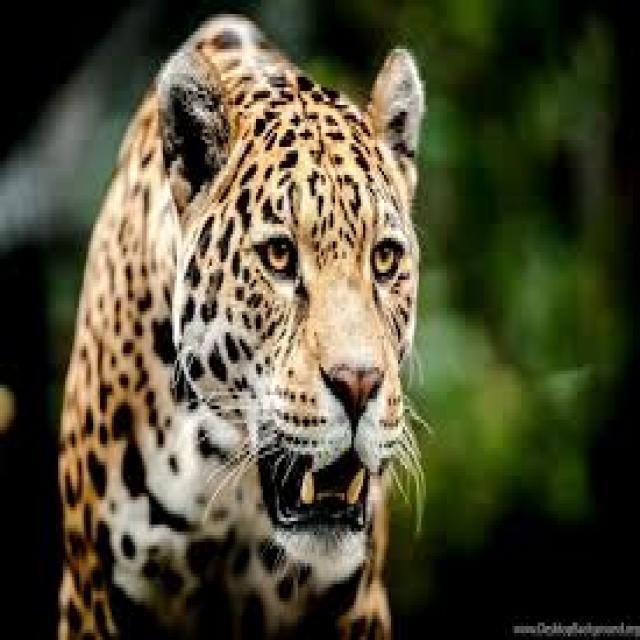Jaguar: (60, 14, 426, 640)
